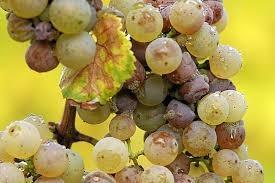Grape Rotten: (1, 1, 264, 182)
